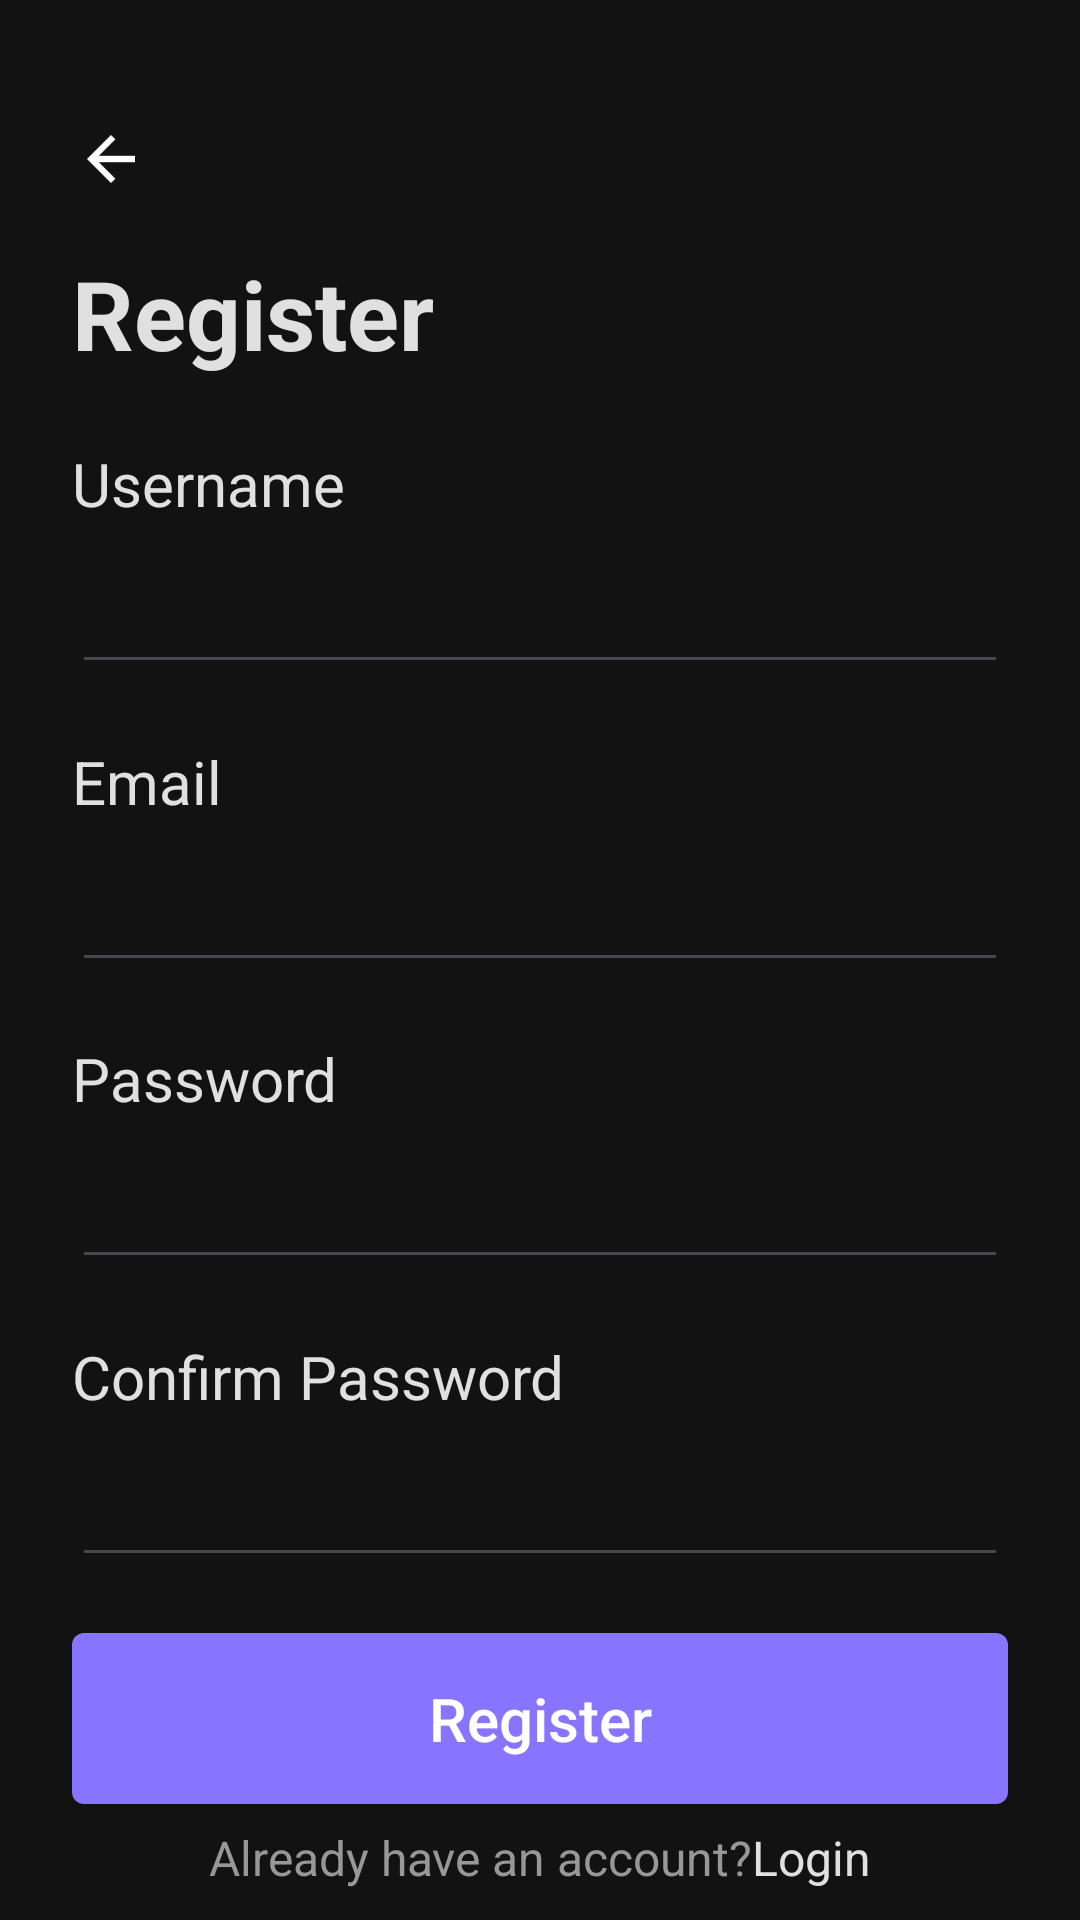

Screen size 1080x1920. Icon name, then its box in pixels as {"x1": x1, "y1": y1, "x2": x2, "y2": y2}:
back: {"x1": 87, "y1": 135, "x2": 135, "y2": 183}
